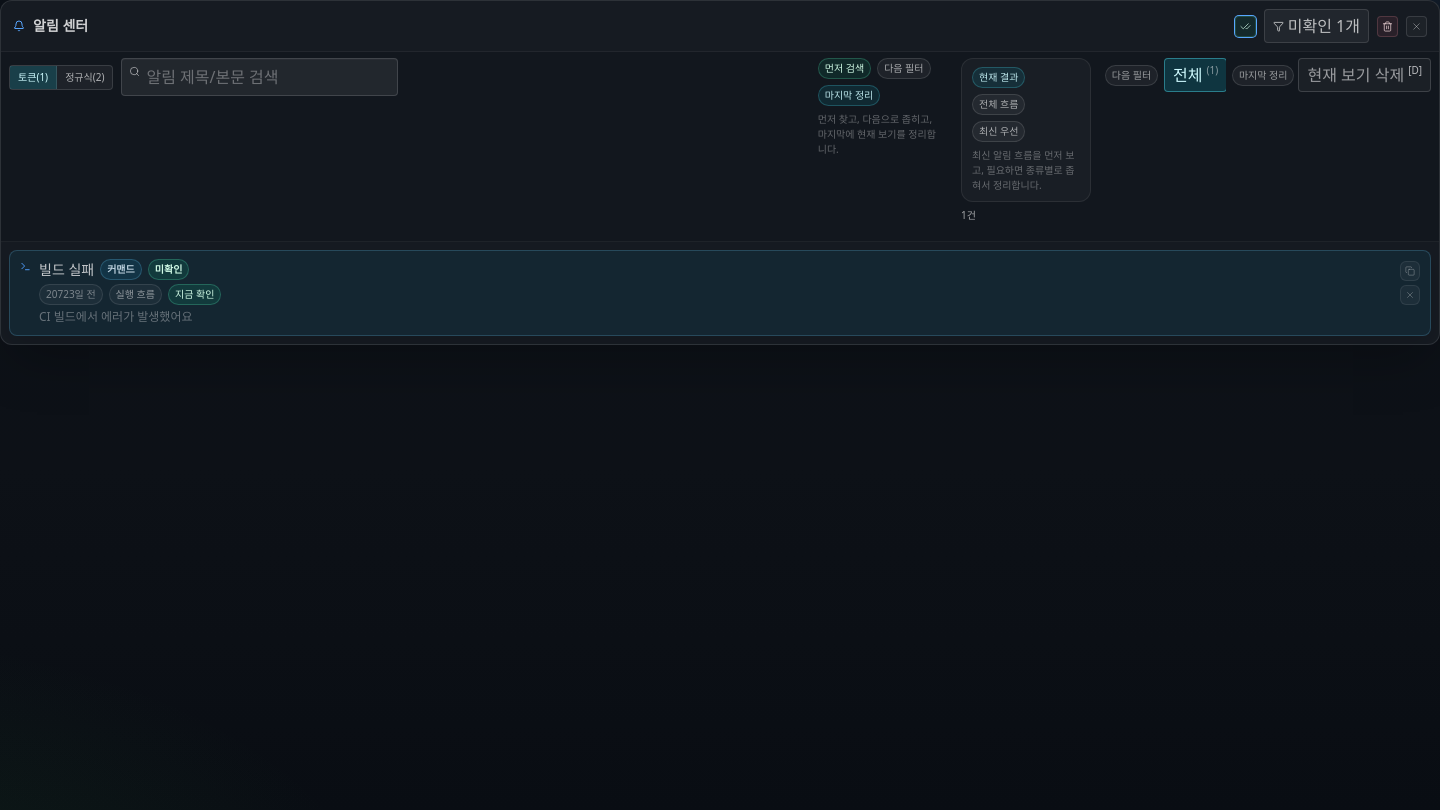
NotificationCenter › 검색어에 맞는 텍스트를 제목/본문에서 강조 표시한다
Type "빌드" into the field named "알림 검색". click: coordinates (260, 77)
box: left=122, top=58, right=398, bottom=96
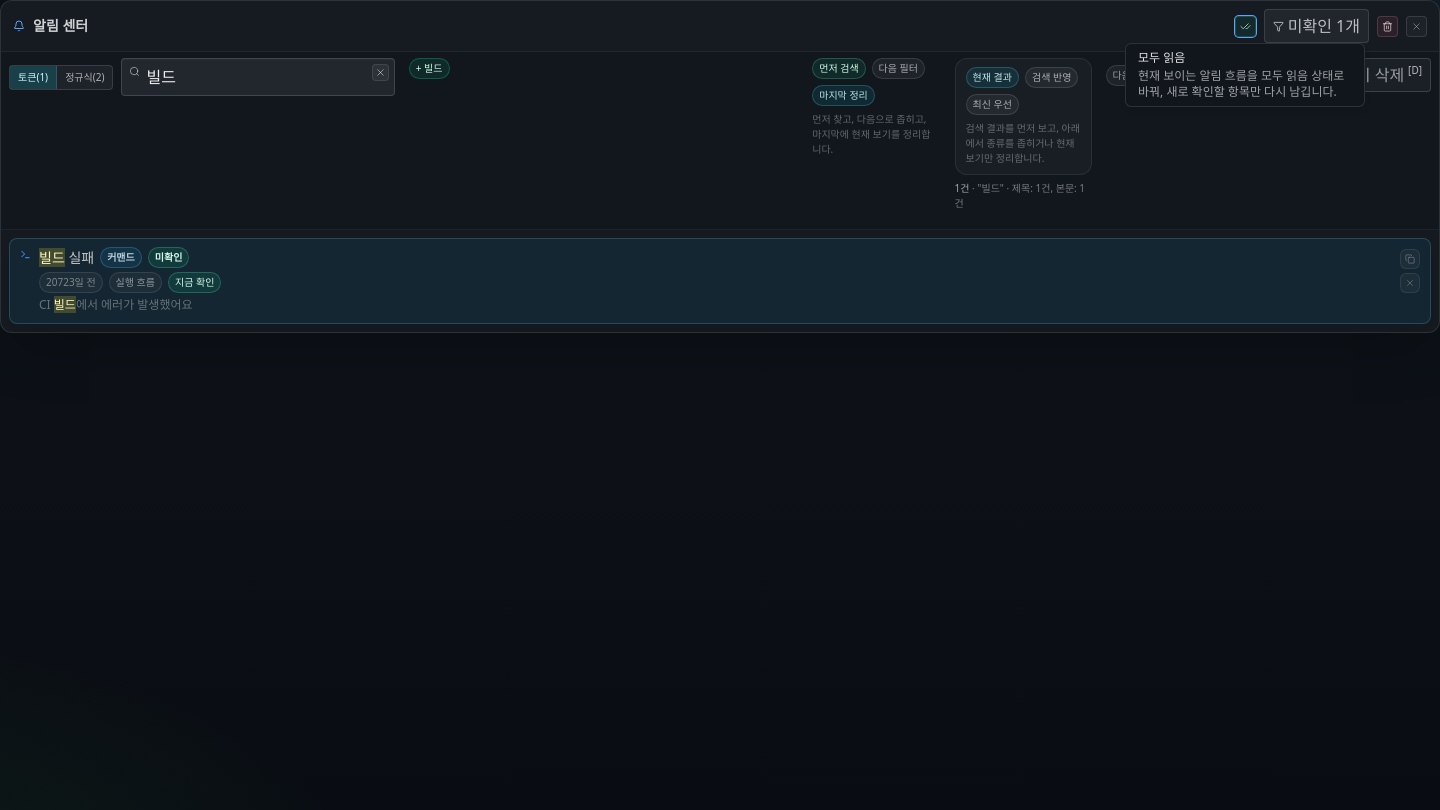
Expected: the text "빌드" next to "실패" is shown, left=39, top=248, right=65, bottom=266
Expected: the text "빌드" next to "CI" is shown, left=54, top=296, right=76, bottom=313
